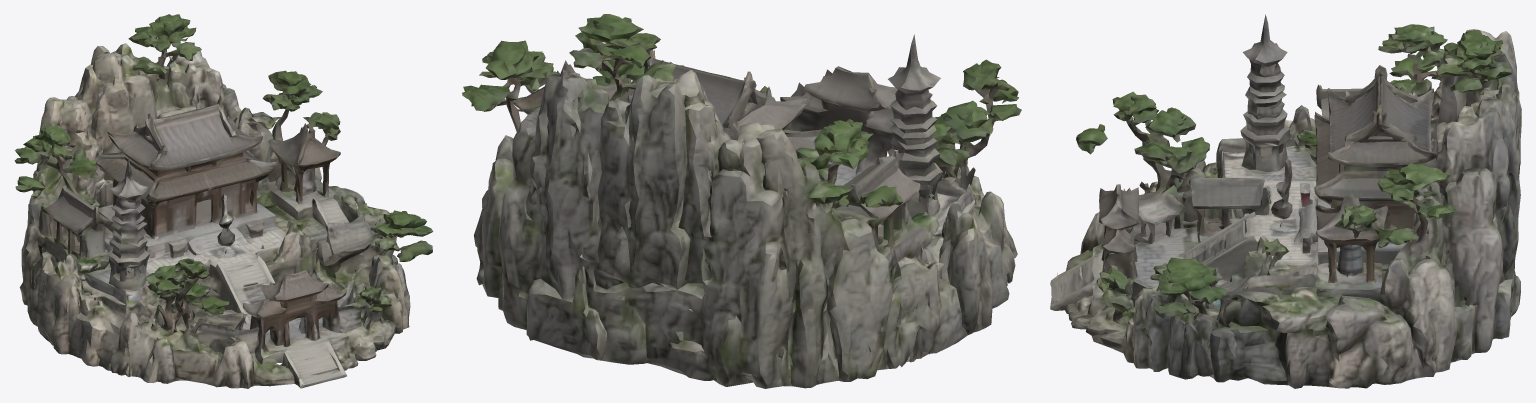
Rendered from temple_full.glb.
3 views of the same model, side by side, from view 1: azimuth 30°, elevation 25°; view 2: azimuth 150°, elevation 25°; view 3: azimuth 270°, elevation 25° (orthographic). The views are drawn at different scales.
Visible parts, largest first — view 1: geometry_0; view 2: geometry_0; view 3: geometry_0.
Part boxes in pixels (x1,y1,x2,y2): geometry_0: (14,14,433,388); geometry_0: (462,14,1021,388); geometry_0: (1050,14,1521,388).
Size of the model in its own units: 0.35 by 0.2331 by 0.3578.
1 material, 1 textured.
